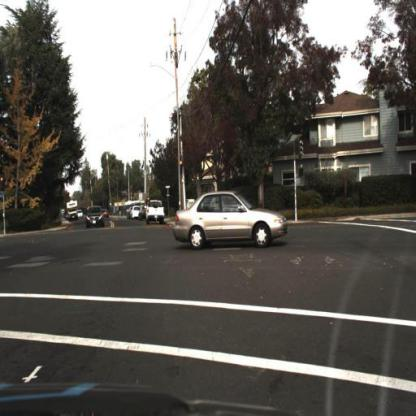car: (167, 188, 289, 254), (80, 202, 108, 232), (144, 200, 169, 228), (144, 197, 166, 226), (86, 202, 107, 228)
trafficLight-Red: (178, 155, 186, 178), (178, 154, 184, 176)
truck: (64, 198, 81, 224)
